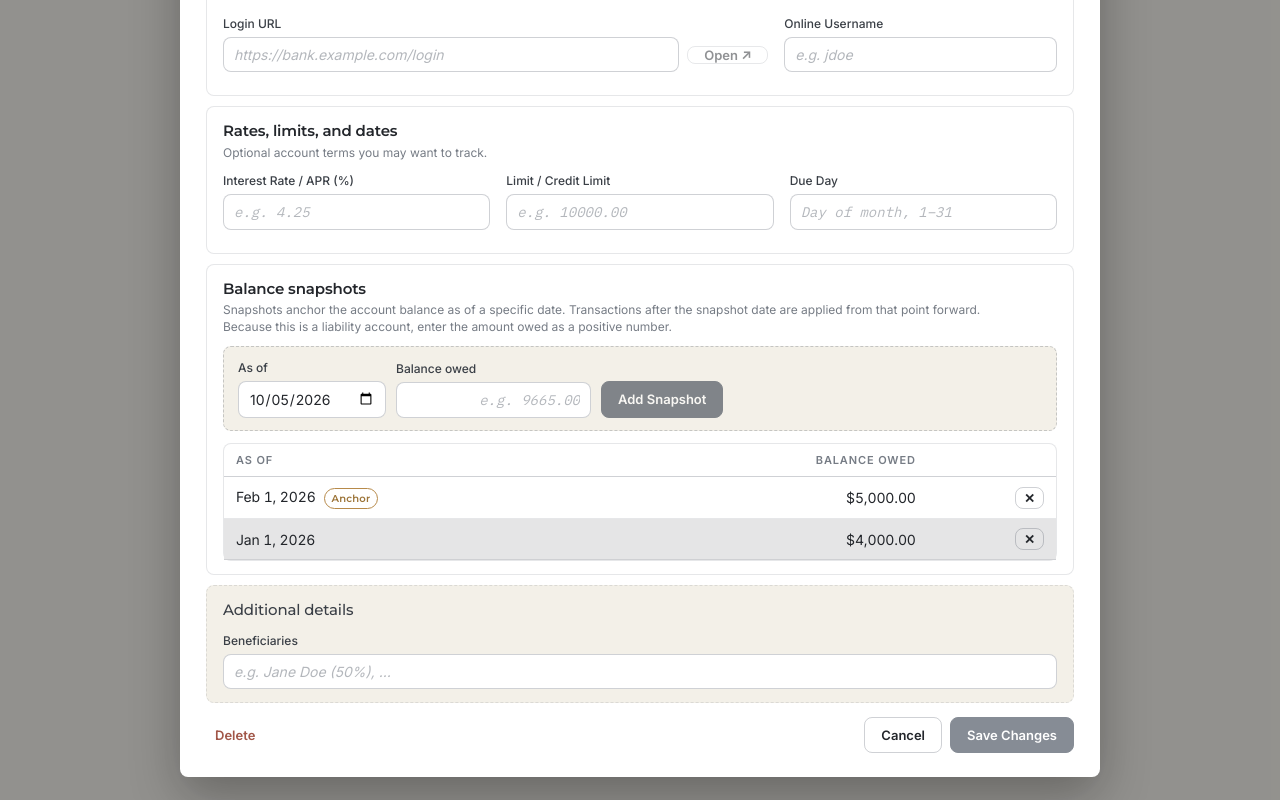
Test: AccountEditor › shows a warning for a negative liability snapshot balance
(page scrolled)
In the field with placeholder "e.g. 9665.00": (494, 400) [396,382,591,418], type "-50"
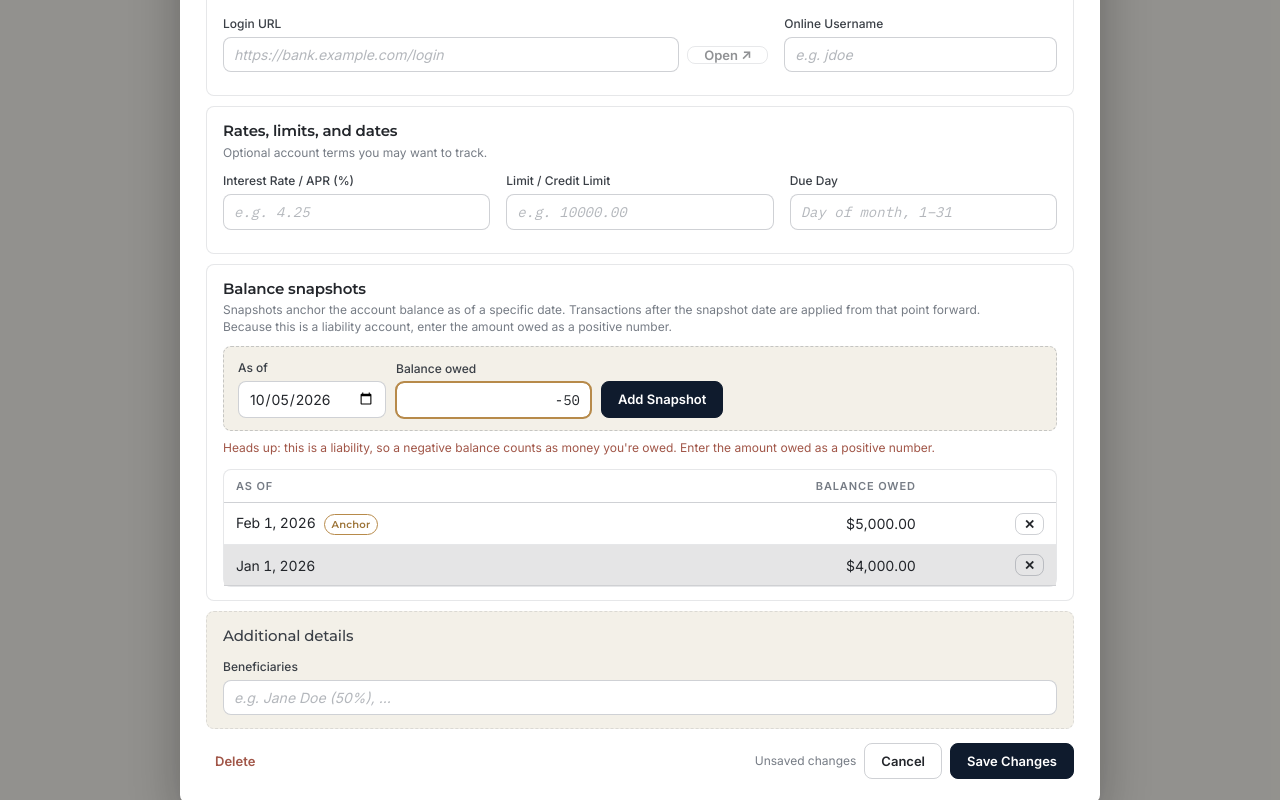
Check: the text "Heads up: this is a liability" is shown, box [223,440,935,455]
